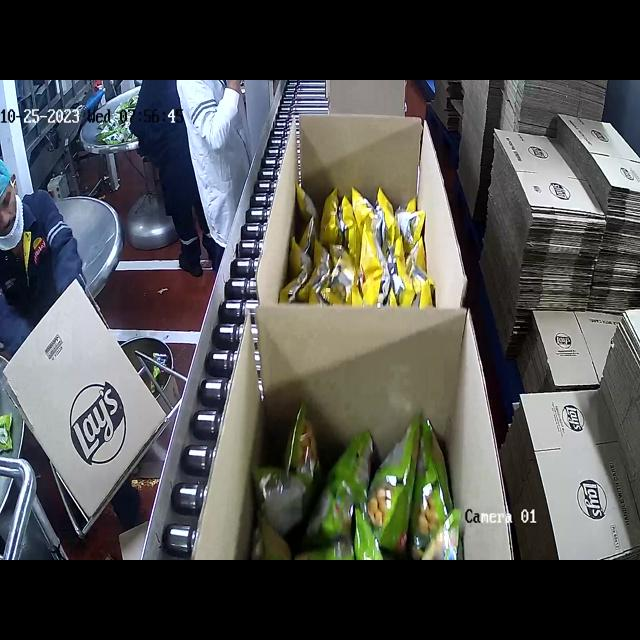salted: (278, 182, 435, 308)
yogurt: (267, 406, 472, 560)
